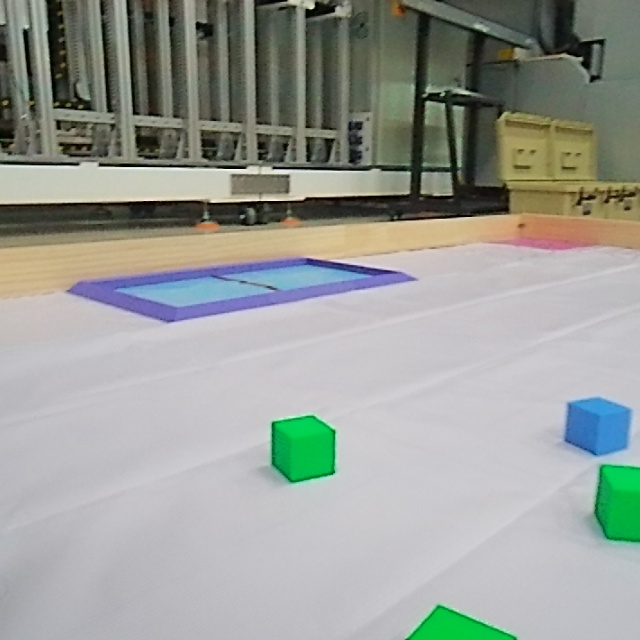blue: (557, 386, 639, 457)
green: (266, 412, 344, 490), (586, 459, 639, 539)
zone2: (52, 252, 432, 326)
